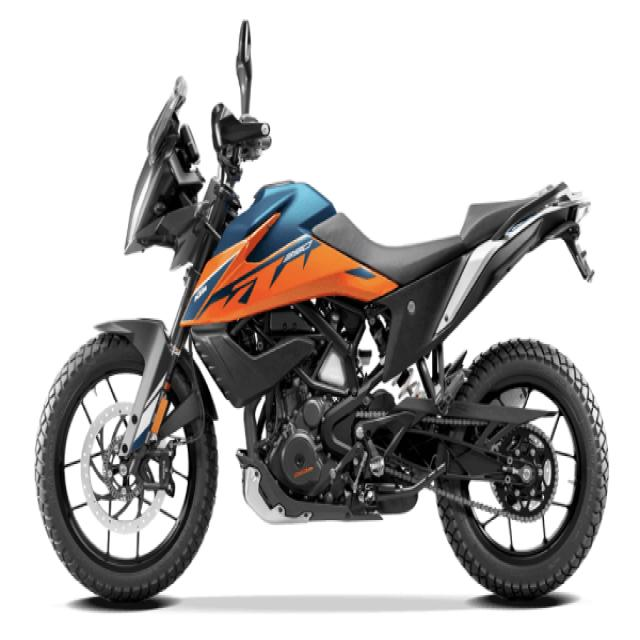motorcycle: (36, 22, 606, 601), (181, 188, 396, 325)
